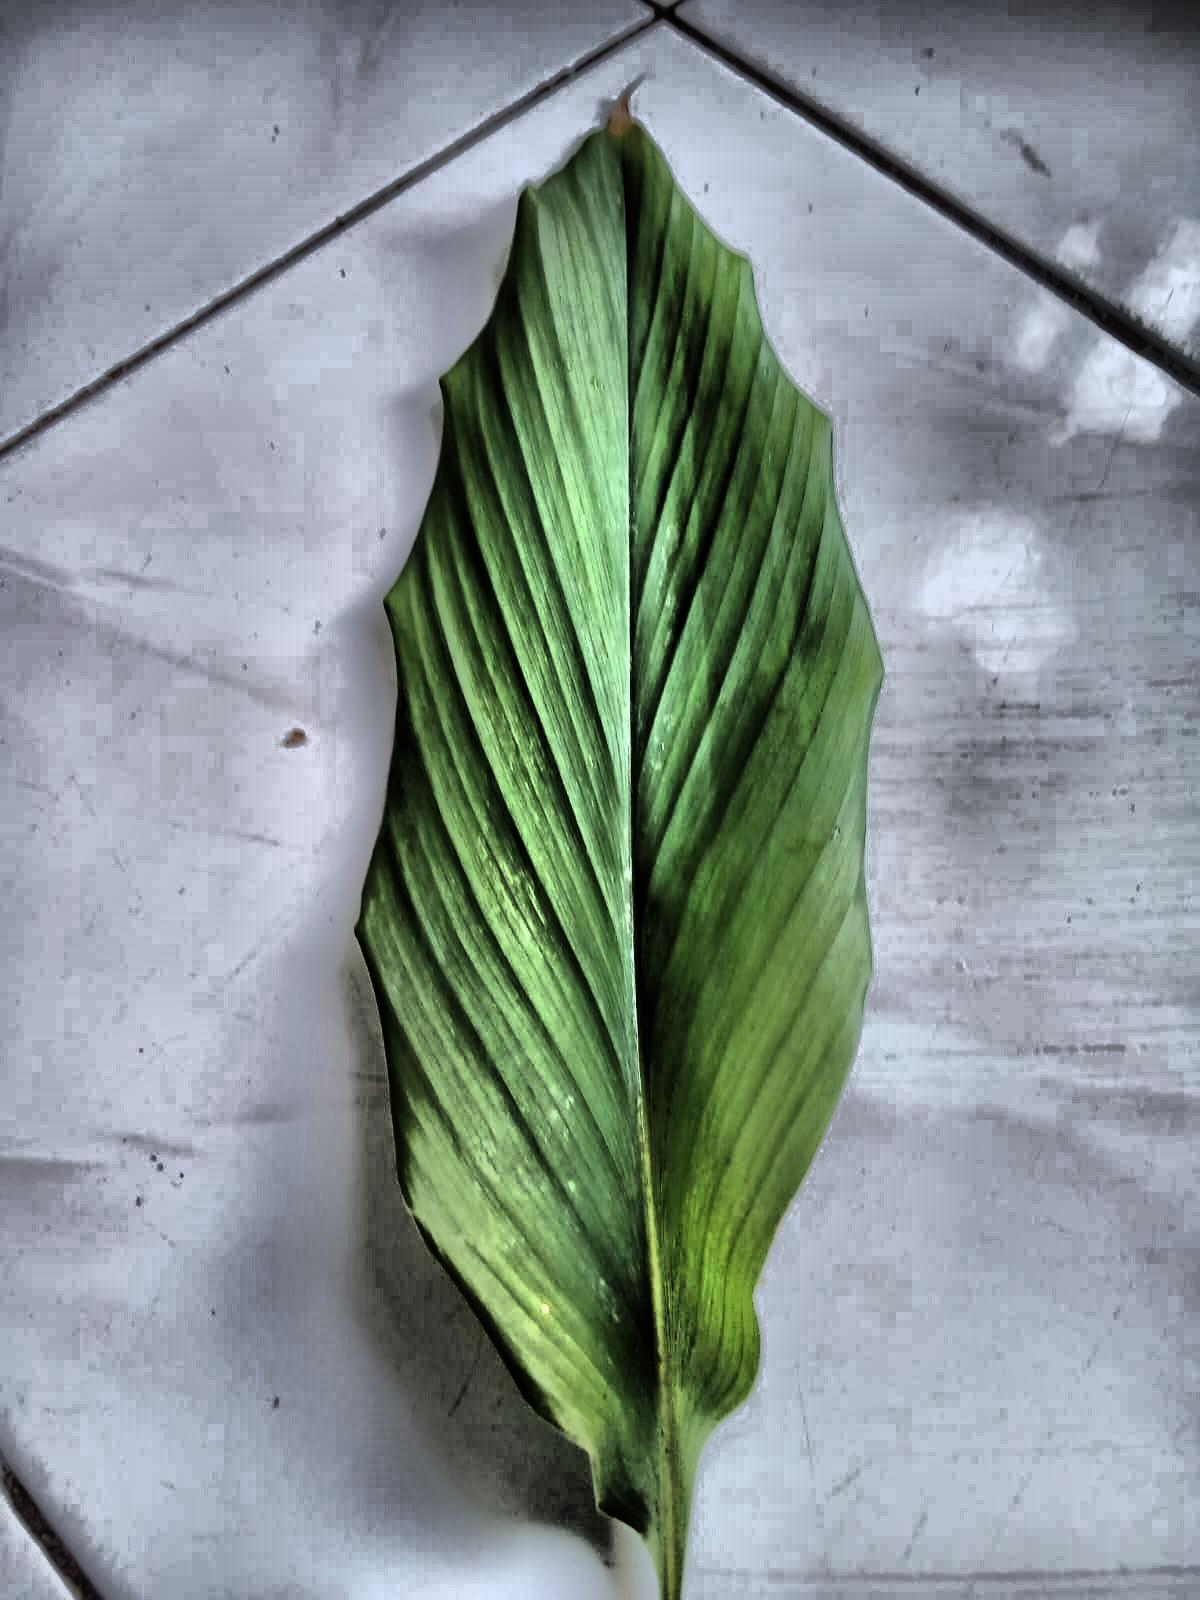daun kunyit: (359, 123, 881, 1599), (557, 520, 557, 520)
